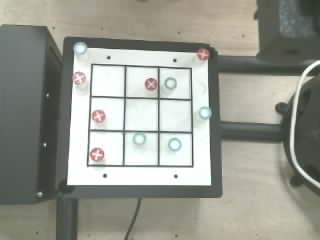blue circle: (168, 138, 182, 152), (73, 42, 87, 55), (199, 106, 211, 119), (164, 77, 176, 89), (133, 133, 145, 144)
board: (67, 42, 211, 185)
cells: (88, 132, 122, 164), (125, 133, 157, 165), (90, 98, 123, 129), (125, 99, 157, 130), (92, 65, 124, 96), (160, 134, 191, 165), (160, 100, 191, 131), (126, 67, 157, 97), (160, 68, 190, 98)
grid: (87, 64, 193, 167)
red cross: (91, 109, 105, 123), (90, 148, 105, 161), (72, 72, 85, 85), (145, 78, 157, 90), (197, 48, 209, 60)
